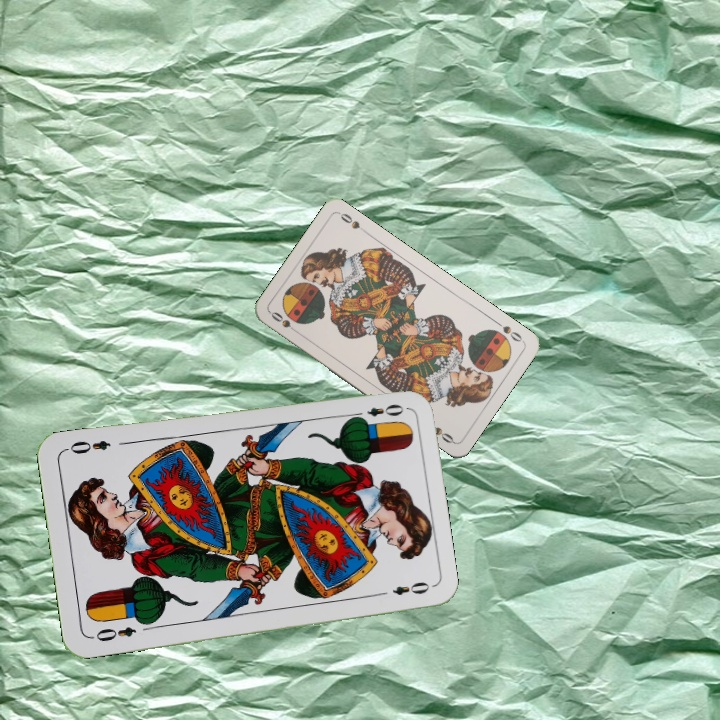EO: (349, 400, 407, 424), (87, 623, 139, 644)
SO: (267, 307, 302, 336), (491, 317, 526, 345)
